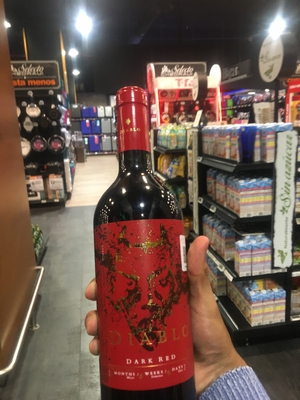diablo dark red: (88, 70, 216, 394)
